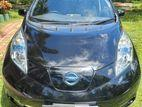car: (2, 1, 139, 107)
